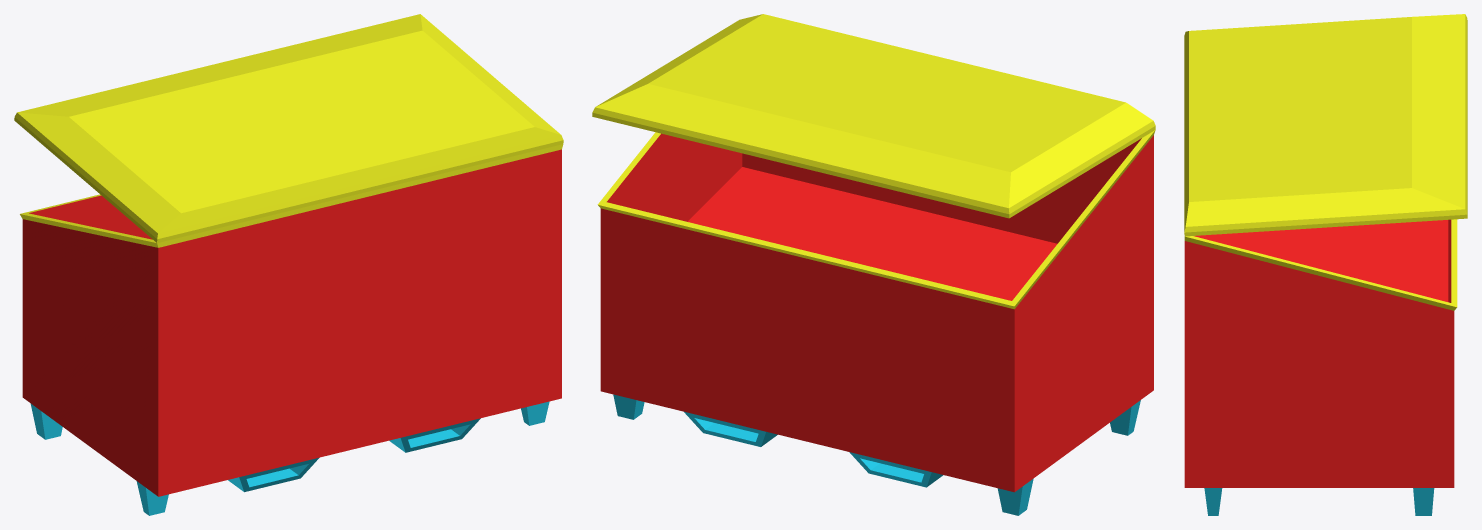
File: dumpsterSmallOpen.FBX
3 renders of one model, left to right at view 1: azimuth 30°, elevation 25°; view 2: azimuth 150°, elevation 25°; view 3: azimuth 270°, elevation 25°, orthographic. The views are drawn at different scales.
Visible parts, largest first — view 1: Dumpster_Small002; view 2: Dumpster_Small002; view 3: Dumpster_Small002.
Part boxes in pixels (x1,y1,x2,y2): Dumpster_Small002: (14, 14, 563, 515); Dumpster_Small002: (592, 14, 1155, 515); Dumpster_Small002: (1184, 14, 1467, 515).
Bounding box in the file's own units: 72.52 × 54.77 × 44.15.
